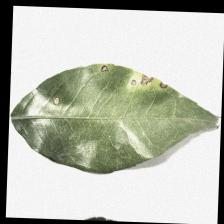canker: (36, 56, 172, 114)
